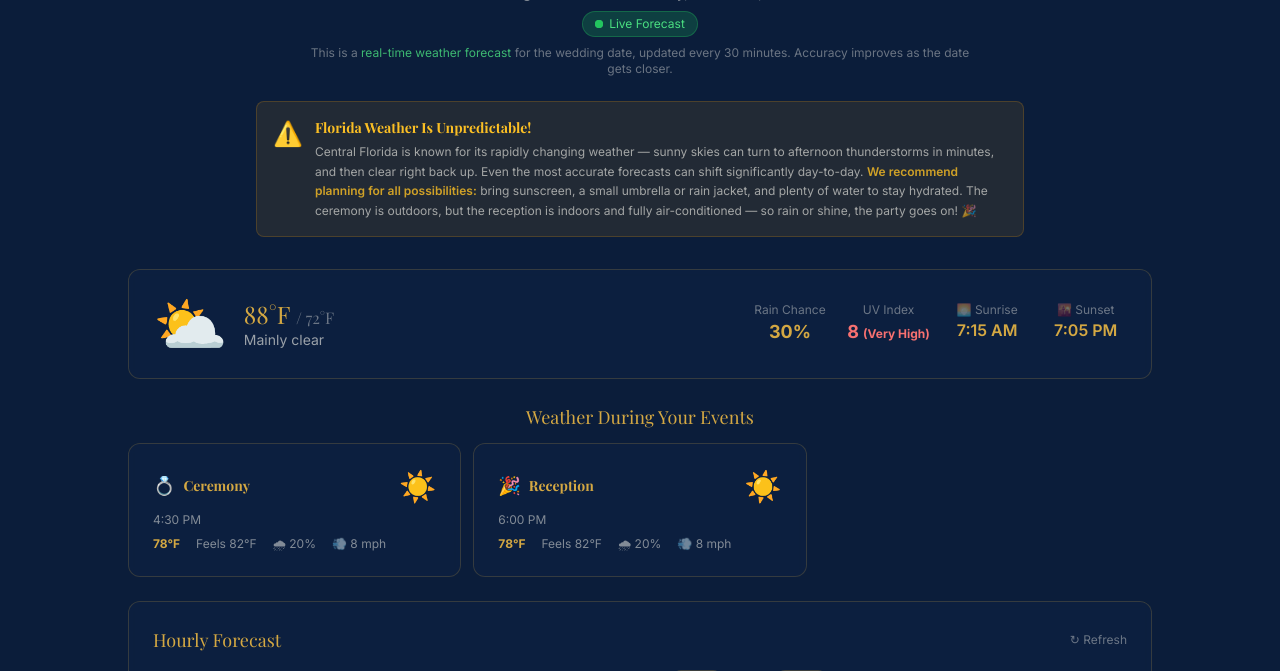
WeatherForecast › selecting an event hour shows detail panel
The image size is (1280, 671).
Note: Click the ceremony card (hour 16)
Click the text "Ceremony": (217, 486) [184,476,250,496]
(page scrolled)
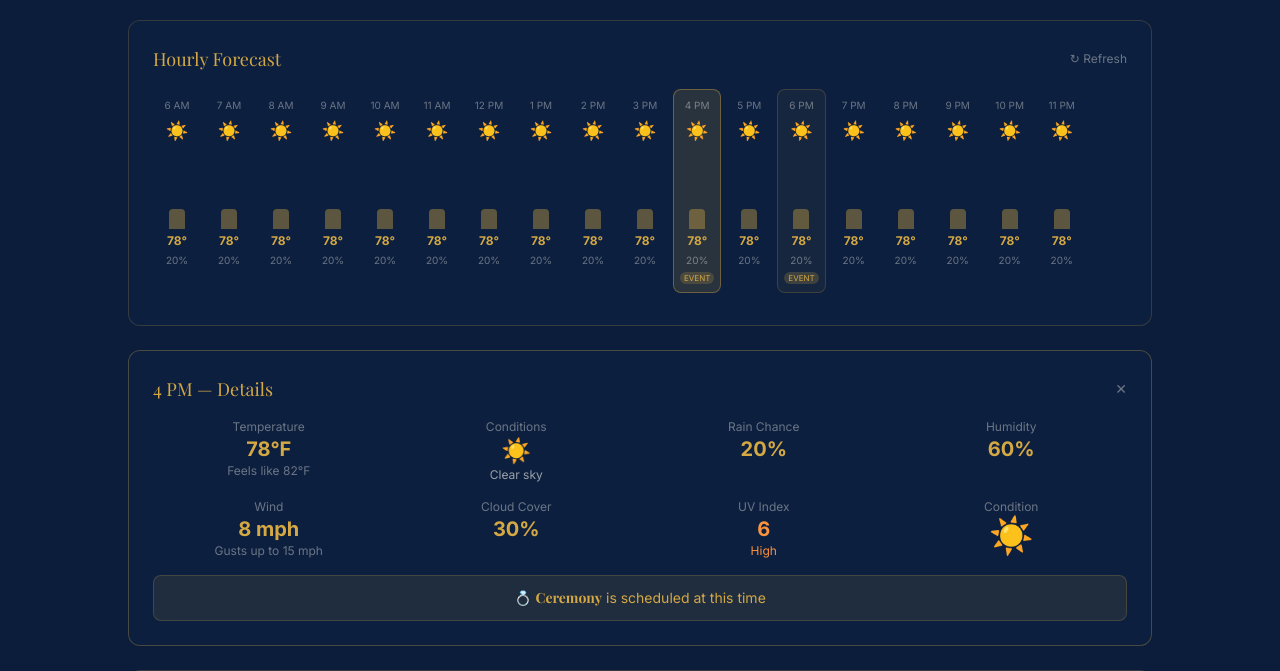
Result: the heading "4 PM — Details" is shown at [153,375,273,403]
